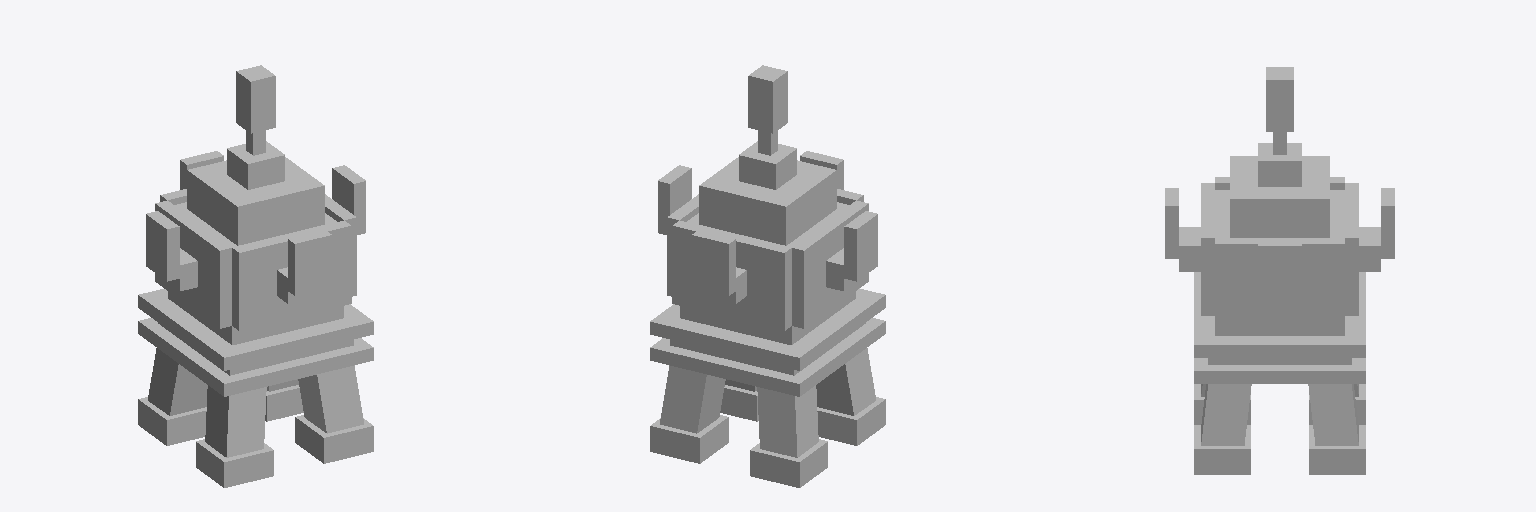
File: blockdemonpylon.obj
3 renders of one model, left to right at view 1: azimuth 30°, elevation 25°; view 2: azimuth 150°, elevation 25°; view 3: azimuth 270°, elevation 25°, orthographic.
Parts seen in each view (by area): view 1: BlockDemonPylon; view 2: BlockDemonPylon; view 3: BlockDemonPylon.
Part boxes in pixels (left/top/right/bottom): BlockDemonPylon: left=138, top=65, right=373, bottom=487; BlockDemonPylon: left=650, top=65, right=885, bottom=487; BlockDemonPylon: left=1165, top=67, right=1394, bottom=474.
Bounding box in the file's own units: 1 × 1.75 × 1.